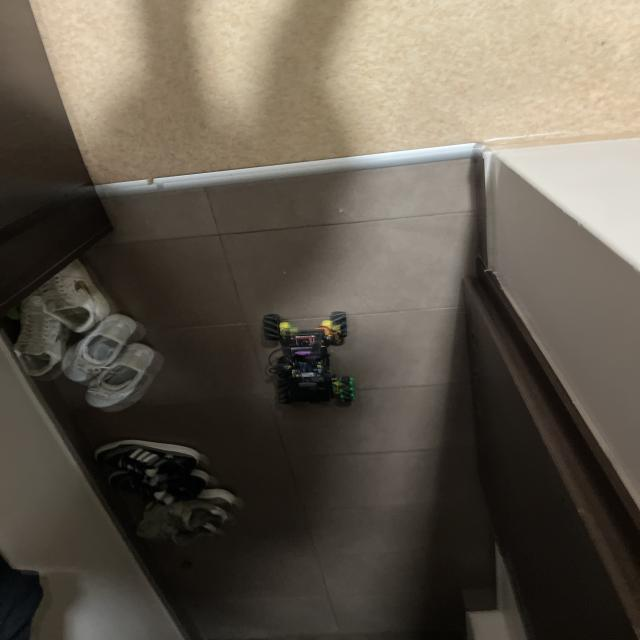robot: (263, 311, 354, 403)
